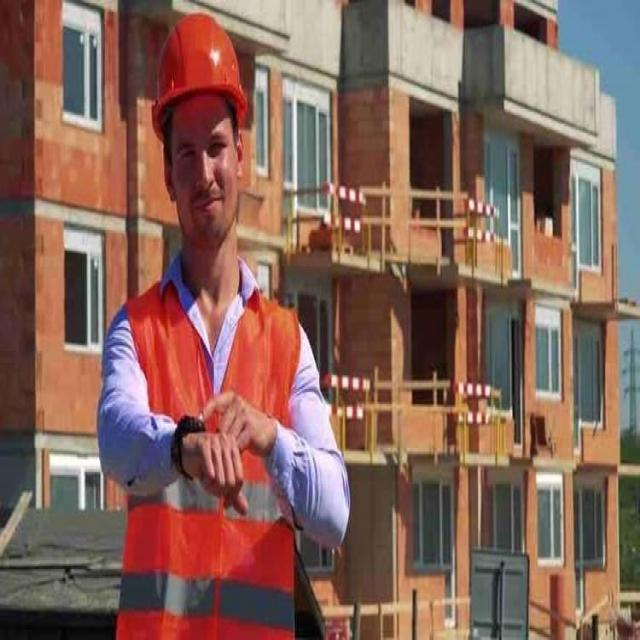Reflective-Jacket: (106, 262, 307, 635)
Safety-Helmet: (144, 5, 254, 136)
